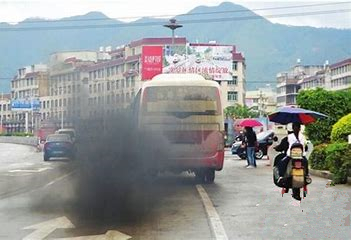smoke: (40, 78, 169, 237)
